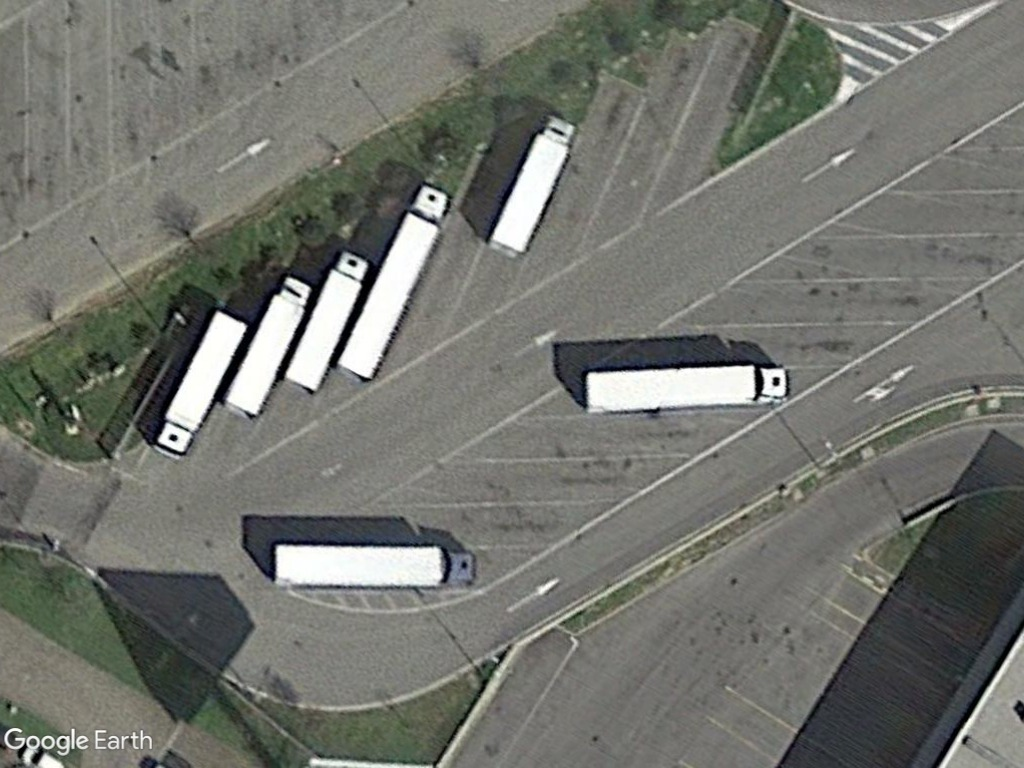longvehicle: (337, 186, 444, 387), (150, 303, 247, 464), (220, 269, 315, 425), (483, 112, 583, 260), (263, 537, 486, 596), (282, 251, 367, 398), (578, 361, 793, 415)
